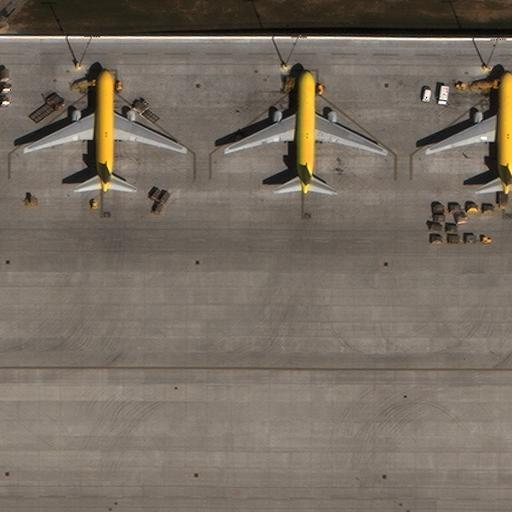Large Civil Transport: (225, 70, 387, 194), (25, 69, 186, 192), (427, 70, 511, 194)
